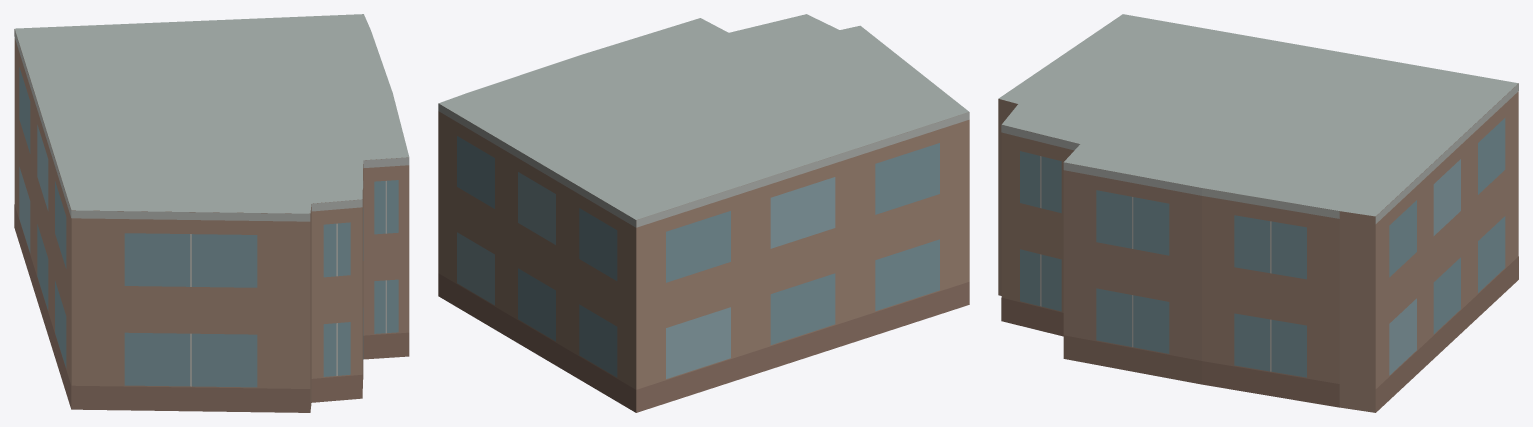
The model's file is survey-upis-32673424.glb.
3 renders of one model, left to right at view 1: azimuth 30°, elevation 25°; view 2: azimuth 150°, elevation 25°; view 3: azimuth 270°, elevation 25°, orthographic. The views are drawn at different scales.
Parts seen in each view (by area): view 1: survey-upis-32673424.tmp; view 2: survey-upis-32673424.tmp; view 3: survey-upis-32673424.tmp.
Boxes of the visible parts, box(x1,y1,x2,y2) form: survey-upis-32673424.tmp: box(14, 14, 409, 412); survey-upis-32673424.tmp: box(438, 14, 969, 412); survey-upis-32673424.tmp: box(998, 14, 1518, 412).
Size of the model in its own units: 13.49 by 6.1 by 14.65.
